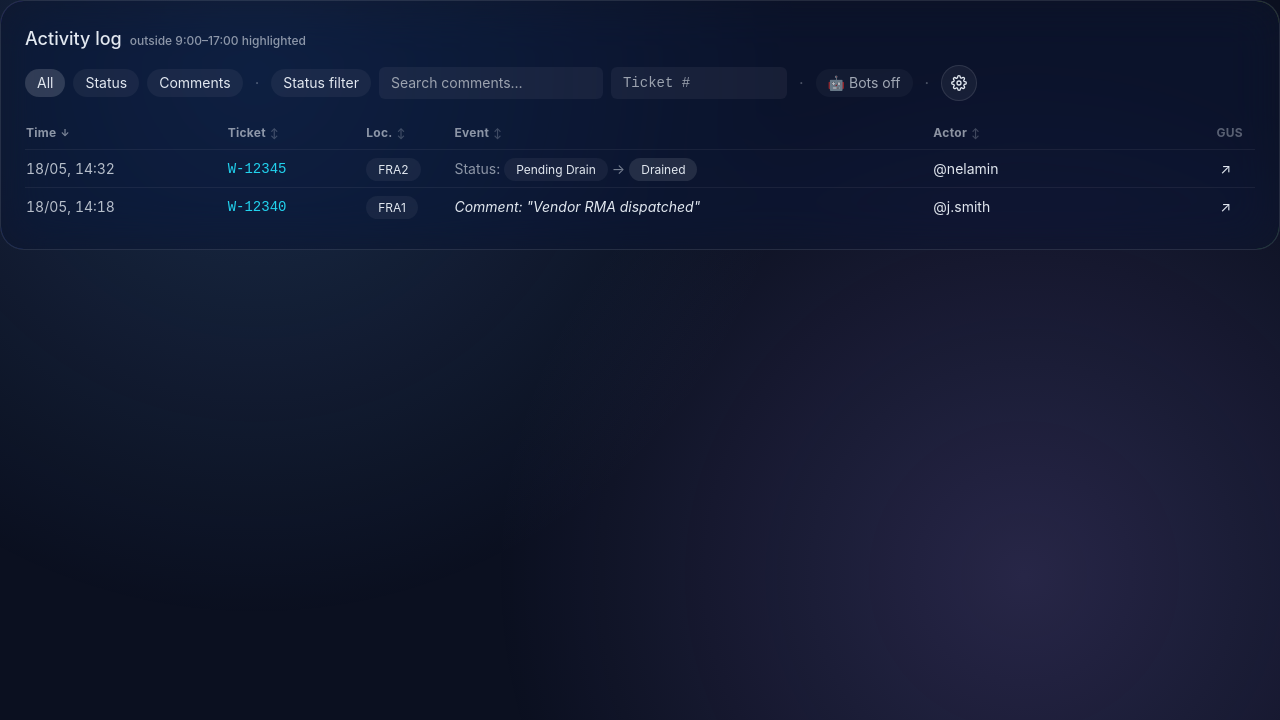
Test: ActivityLog › comment search hides status_change events and matches body
This screenshot has width=1280, height=720.
Type "vendor" into the search field with placeholder "Search comments…" at {"x": 491, "y": 83}, box [379,67,603,99]
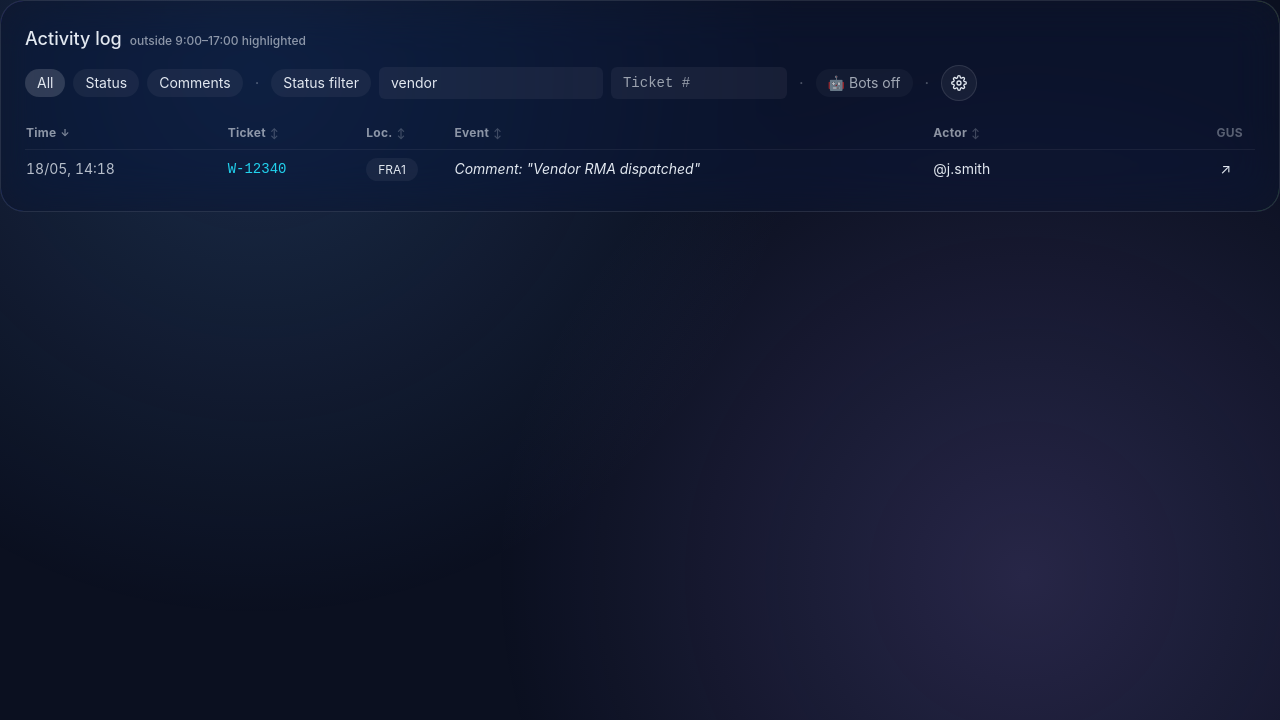
Check: the button "Comment: \"Vendor RMA dispatched\"" is shown, box [454,158,920,178]
Check: the text "W-12345" is gone
